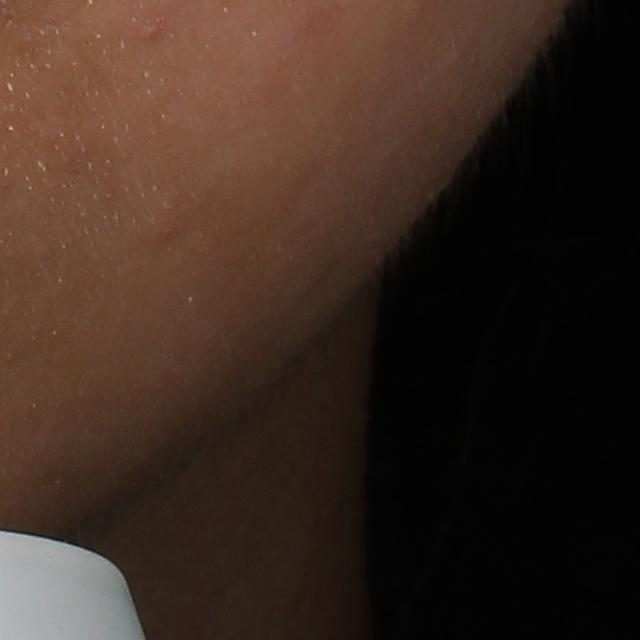comedo: (135, 17, 163, 43)
